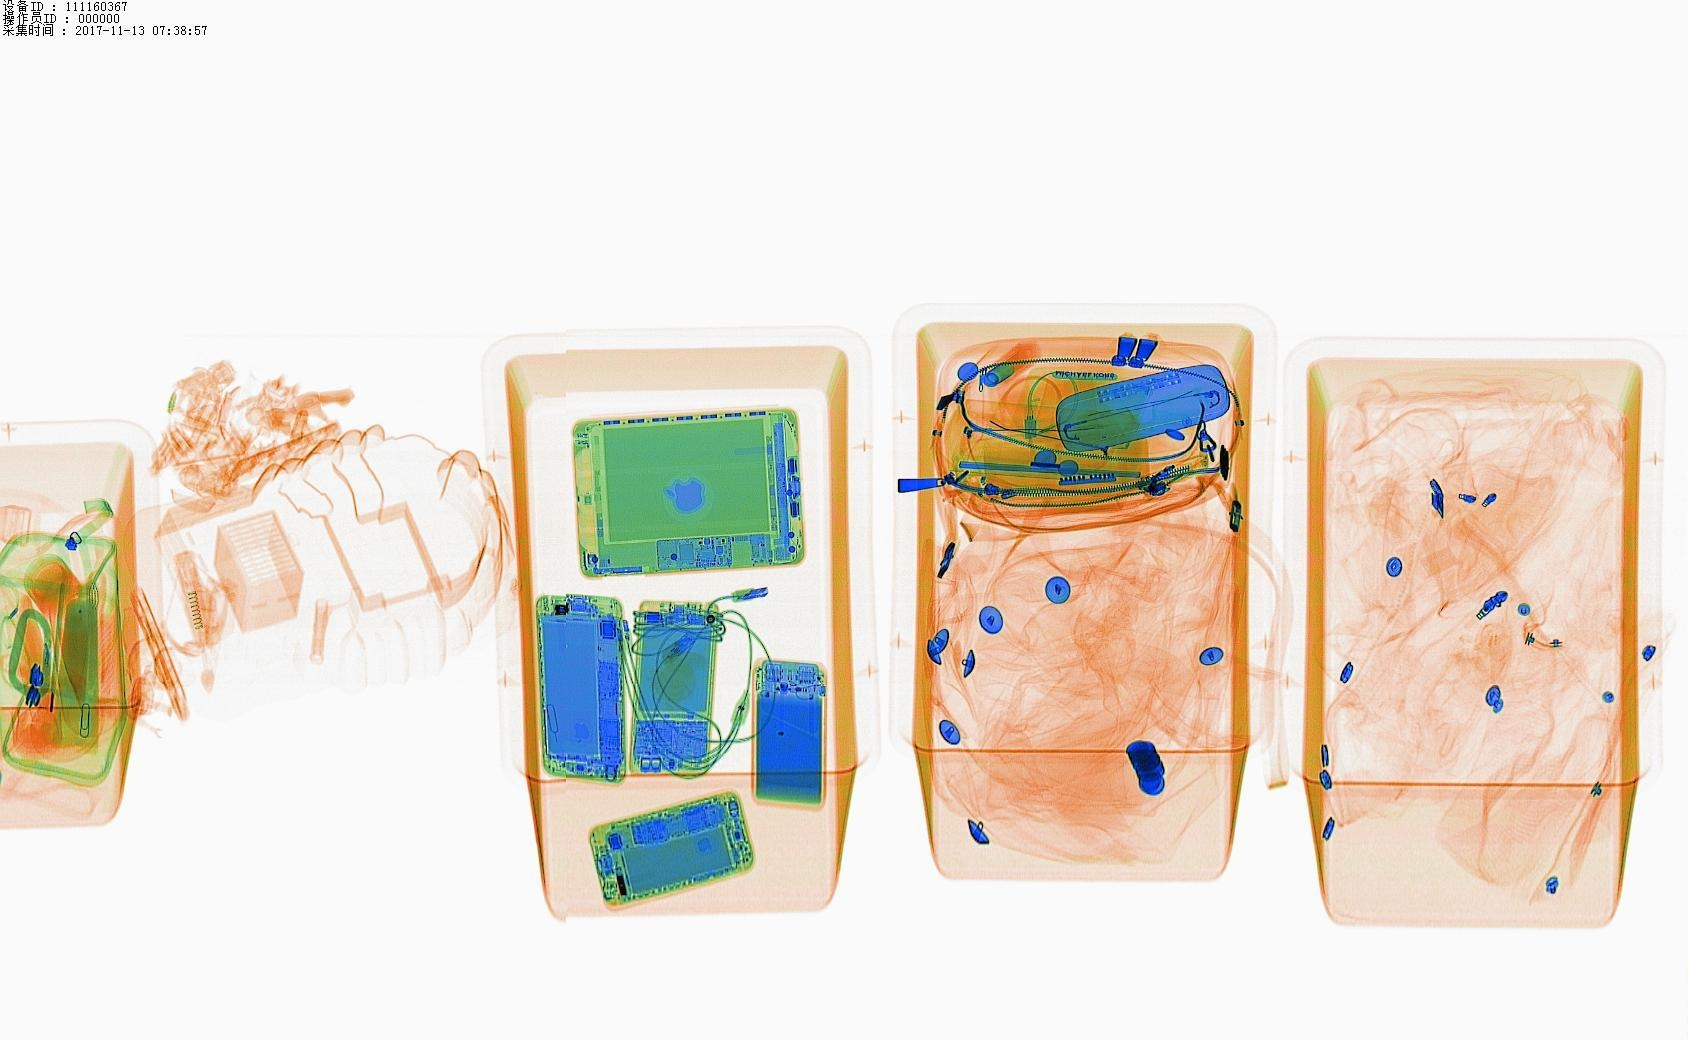coreless: (763, 660, 824, 807)
